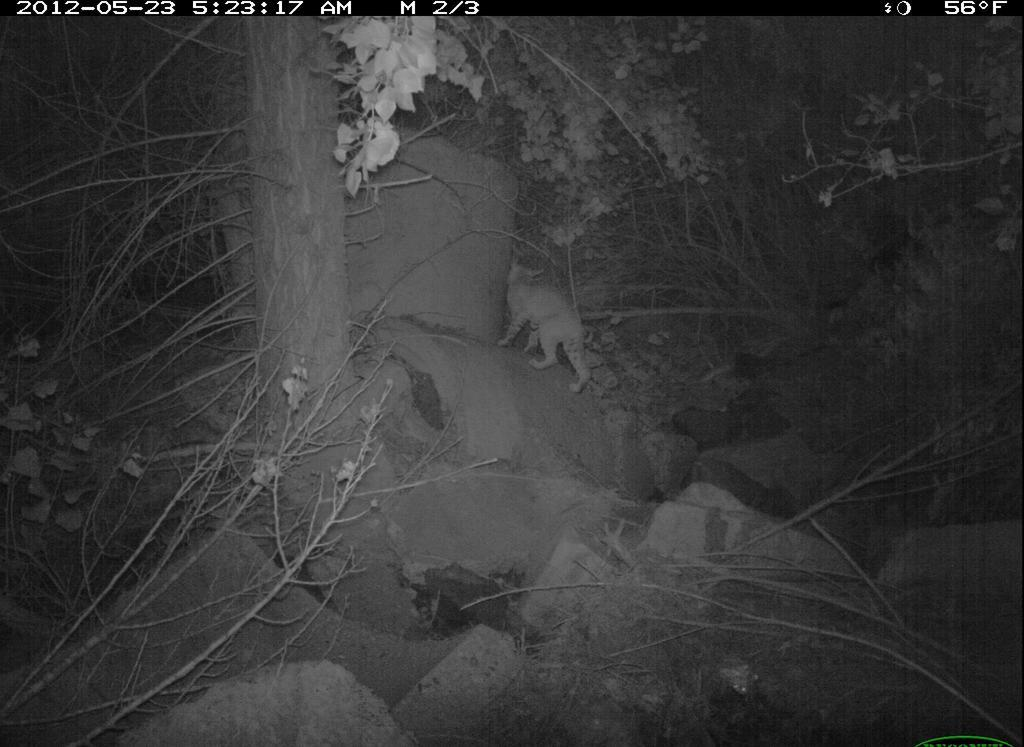bobcat: (495, 257, 609, 408)
